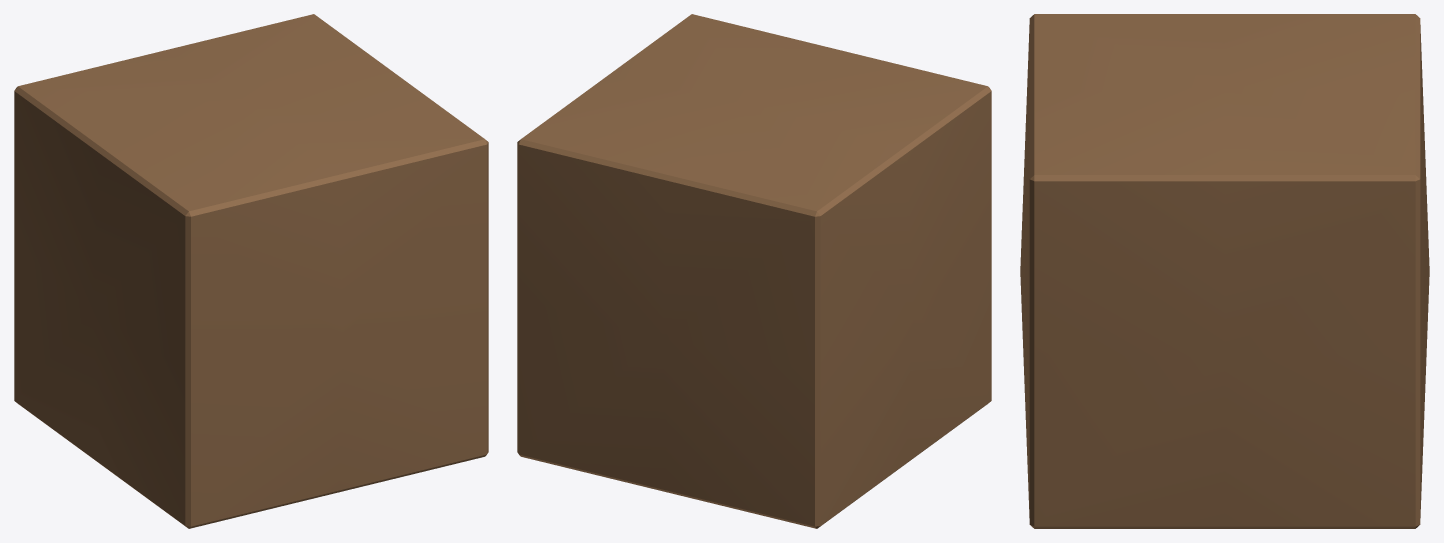
Rendered from CardboardBoxB_Clean.fbx.
3 renders of one model, left to right at view 1: azimuth 30°, elevation 25°; view 2: azimuth 150°, elevation 25°; view 3: azimuth 270°, elevation 25°, orthographic. The views are drawn at different scales.
Visible parts, largest first — view 1: CardboardBoxB_Clean; view 2: CardboardBoxB_Clean; view 3: CardboardBoxB_Clean.
Part boxes in pixels (left/top/right/bottom): CardboardBoxB_Clean: left=14, top=14, right=488, bottom=528; CardboardBoxB_Clean: left=517, top=14, right=991, bottom=528; CardboardBoxB_Clean: left=1020, top=14, right=1429, bottom=528.
Bounding box in the file's own units: 26.21 × 26.21 × 26.21.
